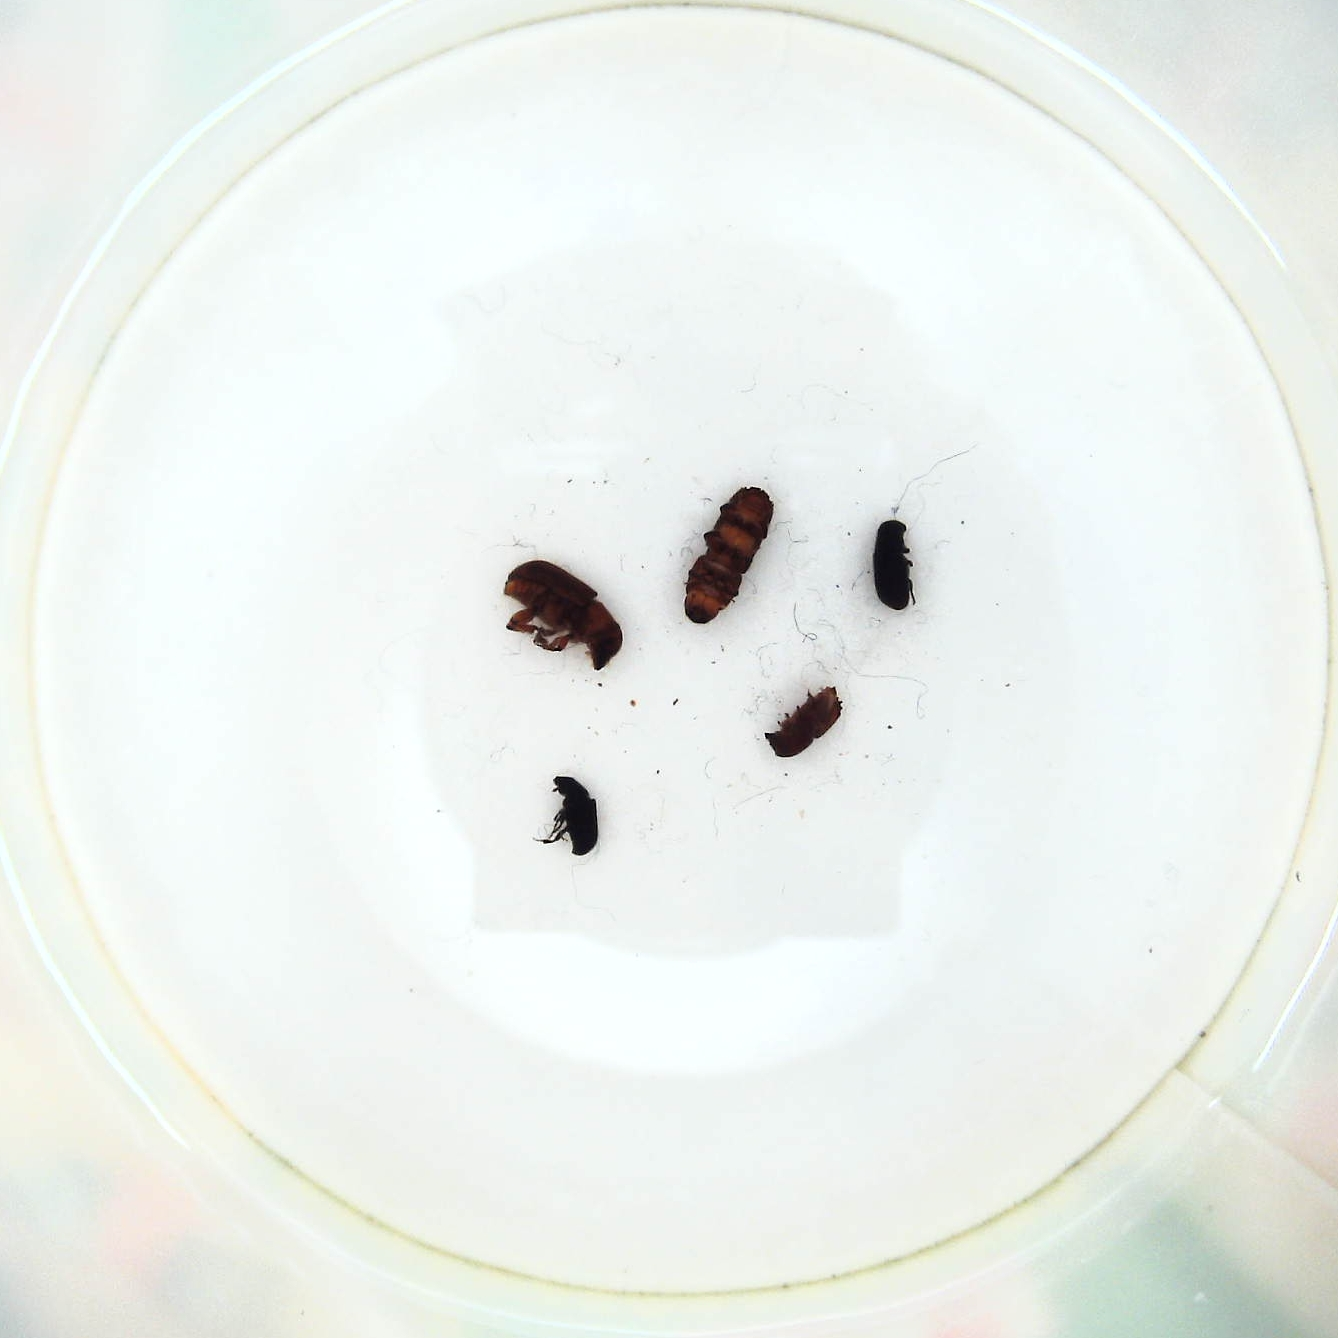Boerner: (679, 480, 777, 631)
Leconte: (499, 555, 625, 680)
armandi: (869, 513, 918, 616)
coleoptera: (540, 769, 607, 863)
linnaeus: (765, 684, 850, 762)
